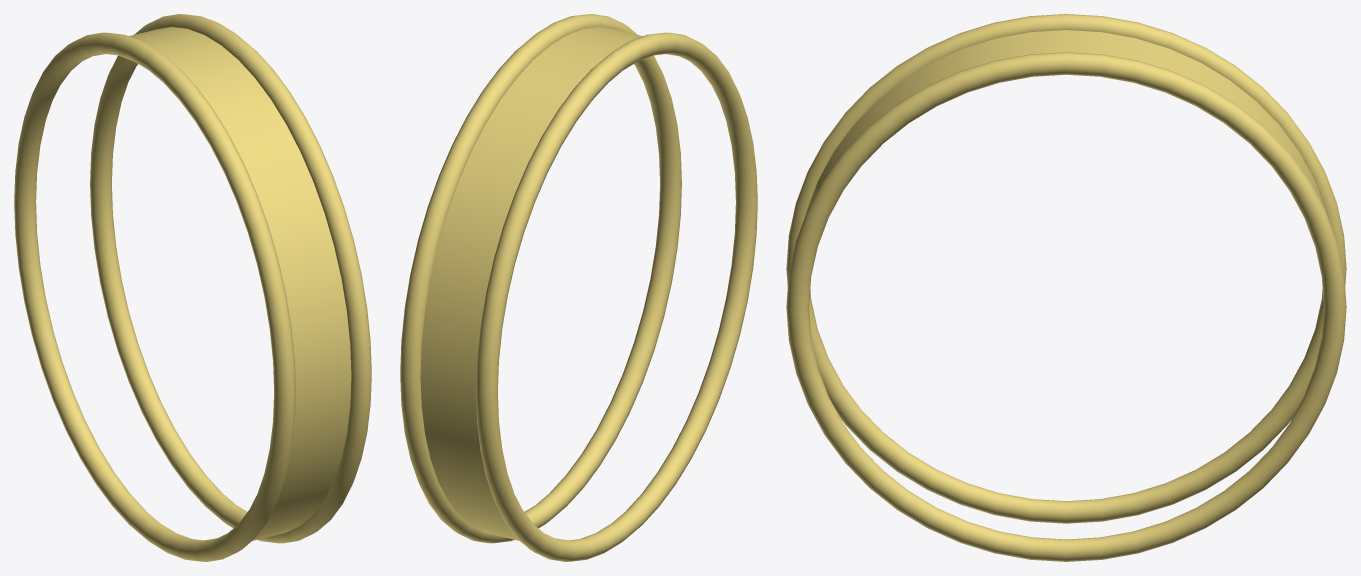
The model's file is shyn-prod-6.glb.
3 views of the same model, side by side, from view 1: azimuth 30°, elevation 25°; view 2: azimuth 150°, elevation 25°; view 3: azimuth 270°, elevation 25° (orthographic). The views are drawn at different scales.
Visible parts, largest first — view 1: part (×3); view 2: part (×3); view 3: part (×3).
Boxes of the visible parts, x1,y1,x2,y2 form: part (×3): (14, 14, 371, 561); part (×3): (400, 14, 757, 561); part (×3): (786, 14, 1346, 561).
Size of the model in its own units: 0.08 by 0.396 by 0.396.
